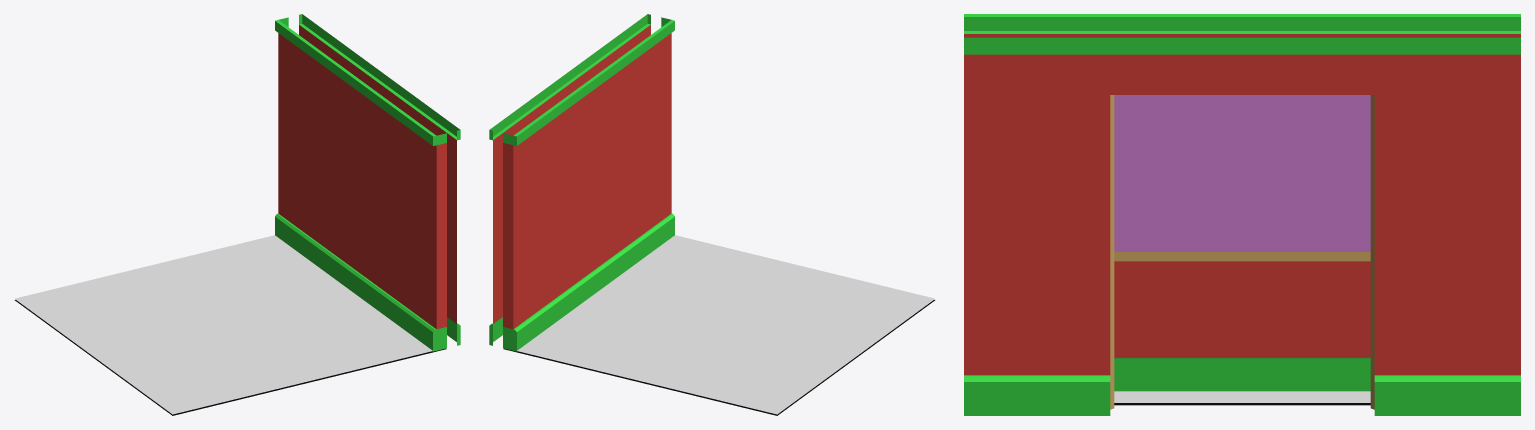
The model's file is ModularParts_Facility.fbx.
3 renders of one model, left to right at view 1: azimuth 30°, elevation 25°; view 2: azimuth 150°, elevation 25°; view 3: azimuth 270°, elevation 25°, orthographic. The views are drawn at different scales.
Visible parts, largest first — view 1: Floor, Wall_Door, Wall_Basic, Ceiling, Wall_Window; view 2: Floor, Wall_Door, Wall_Basic, Ceiling, Wall_Window; view 3: Wall_Door, Wall_Window, Floor, Wall_Basic, Ceiling.
Boxes of the visible parts, <box> form: Floor: <box>15,235,432,414</box>; Wall_Door: <box>275,14,460,350</box>; Wall_Basic: <box>276,17,446,350</box>; Ceiling: <box>14,300,446,415</box>; Wall_Window: <box>275,20,436,351</box>; Floor: <box>517,235,934,414</box>; Wall_Door: <box>489,14,674,350</box>; Wall_Basic: <box>503,17,671,351</box>; Ceiling: <box>503,300,935,415</box>; Wall_Window: <box>513,20,674,350</box>; Wall_Door: <box>964,31,1520,415</box>; Wall_Window: <box>964,14,1520,391</box>; Floor: <box>1114,391,1370,402</box>; Wall_Basic: <box>964,14,1520,33</box>; Ceiling: <box>1114,403,1370,405</box>.
Bounding box in the file's own units: 420 × 301 × 400.
